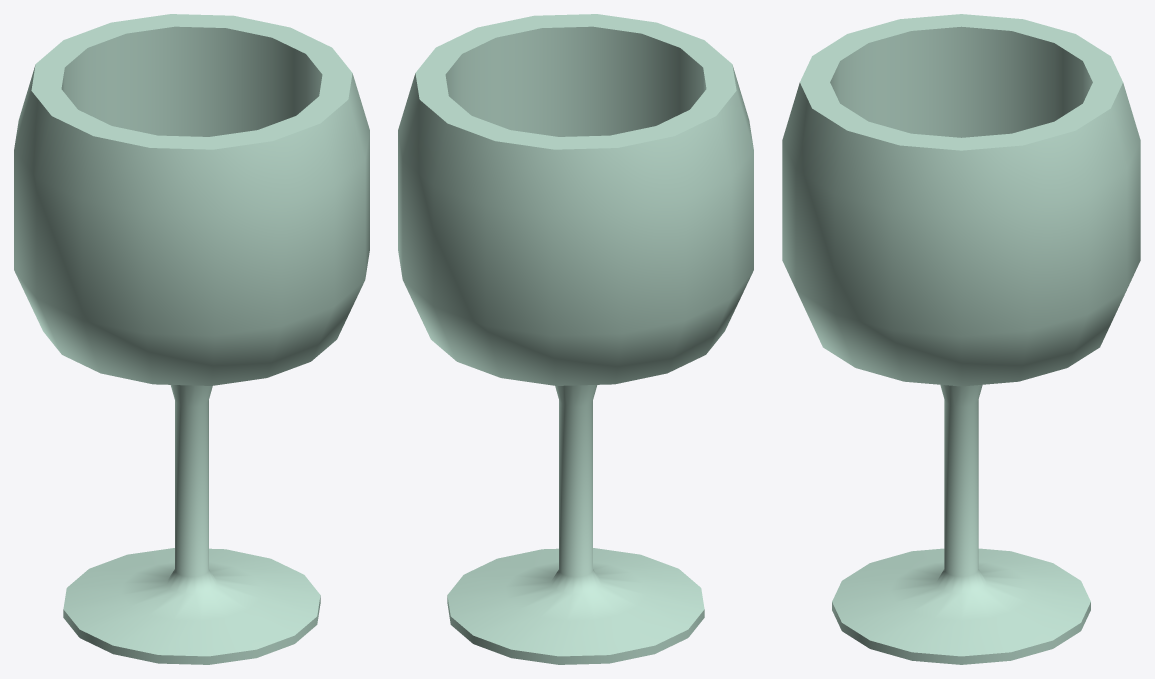
The picture shows the model from 3 angles, left to right: view 1: azimuth 30°, elevation 25°; view 2: azimuth 150°, elevation 25°; view 3: azimuth 270°, elevation 25°; orthographic projection.
Parts seen in each view (by area): view 1: Cylinder.076; view 2: Cylinder.076; view 3: Cylinder.076.
Boxes of the visible parts, left/top/right/bottom form: Cylinder.076: left=14, top=14, right=369, bottom=664; Cylinder.076: left=398, top=14, right=753, bottom=664; Cylinder.076: left=782, top=14, right=1140, bottom=664.
Size of the model in its own units: 0.0819 by 0.1331 by 0.0819.
